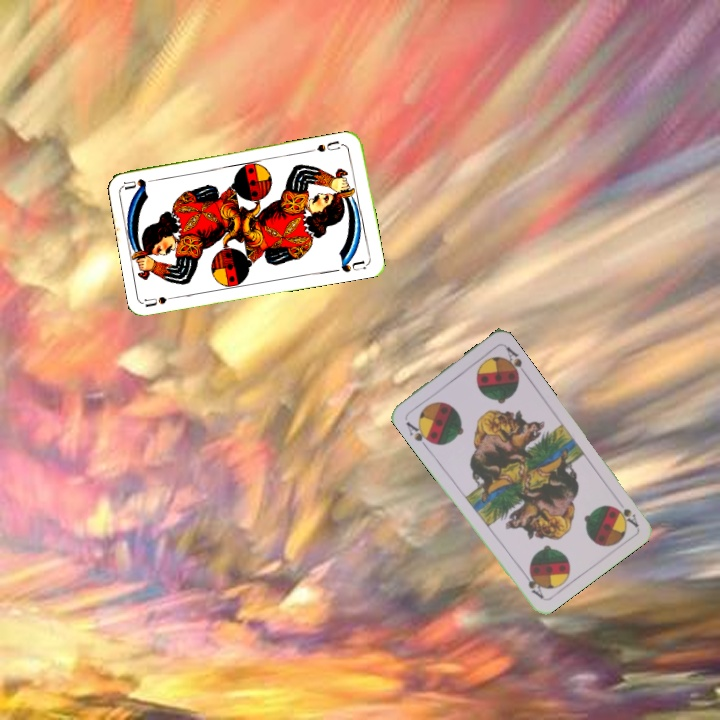SA: (402, 417, 435, 450), (609, 501, 641, 530)
SU: (142, 292, 183, 309), (313, 136, 348, 155)
